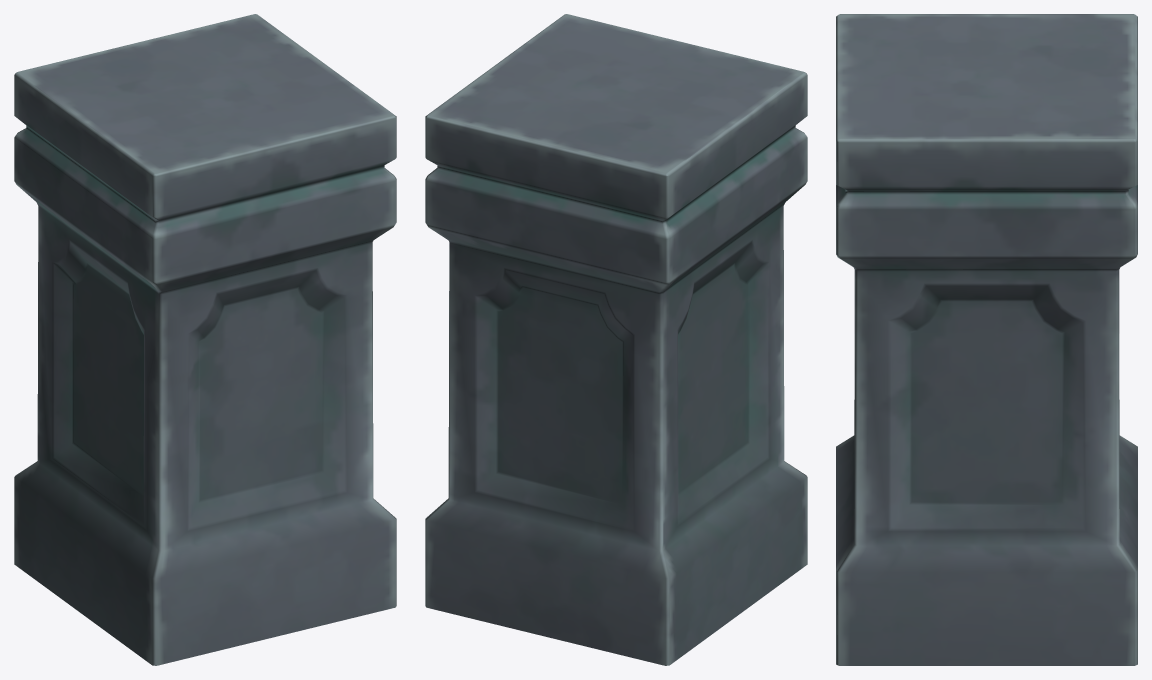
Rendered from Railing_End.fbx.
The picture shows the model from 3 angles, left to right: view 1: azimuth 30°, elevation 25°; view 2: azimuth 150°, elevation 25°; view 3: azimuth 270°, elevation 25°; orthographic projection. The views are drawn at different scales.
Parts seen in each view (by area): view 1: Railing_End; view 2: Railing_End; view 3: Railing_End.
Part boxes in pixels (bbox=[...]): Railing_End: bbox=[14, 14, 396, 665]; Railing_End: bbox=[425, 14, 807, 665]; Railing_End: bbox=[836, 14, 1137, 665].
Size of the model in its own units: 54.54 by 105 by 54.54.
Materials: 1 (1 with a texture image).
